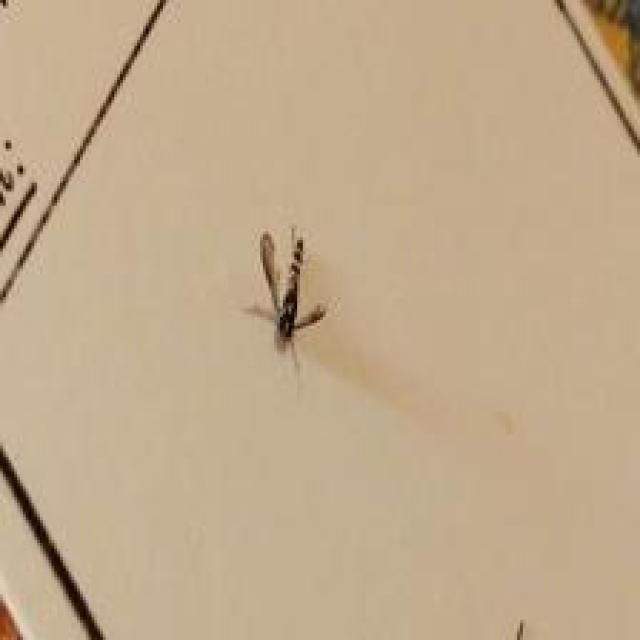Aedes albopictus: (253, 224, 327, 373)
